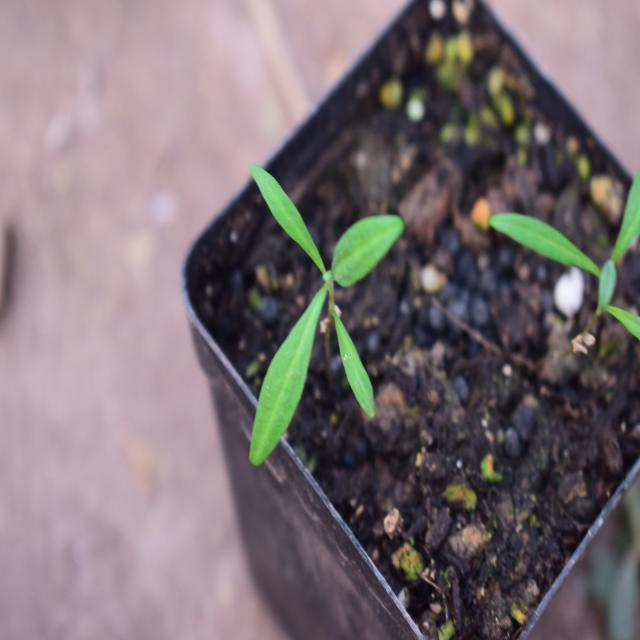white_smart_weed: (238, 156, 416, 483)
